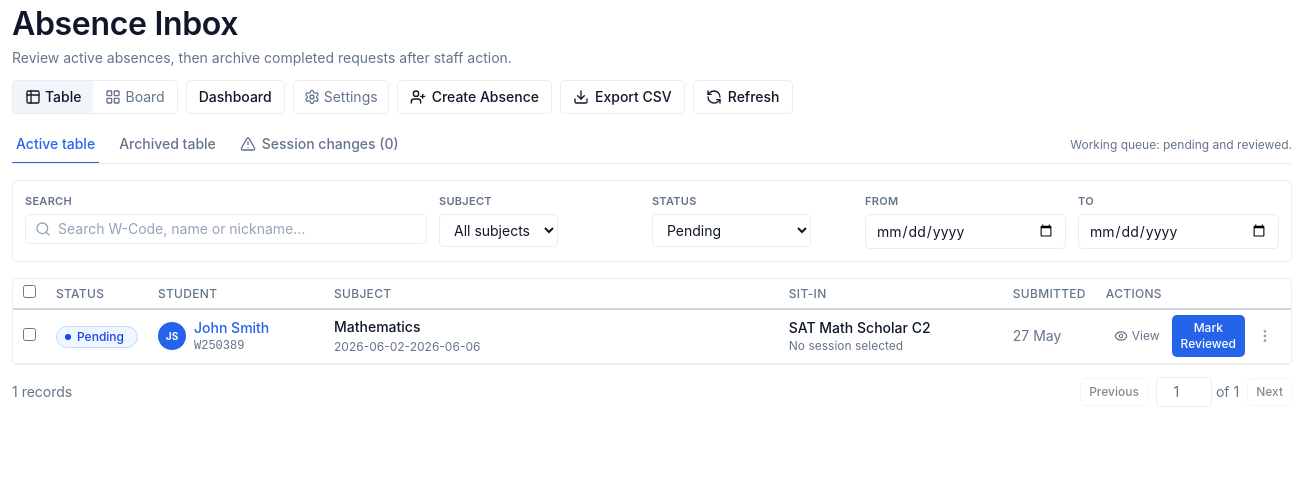
Test case: Absence inbox › flips selected rows to reviewed optimistically while the bulk request is in flight
Step 1. Click the checkbox named "Select W250389" → (30, 334), box [23,328,36,340]
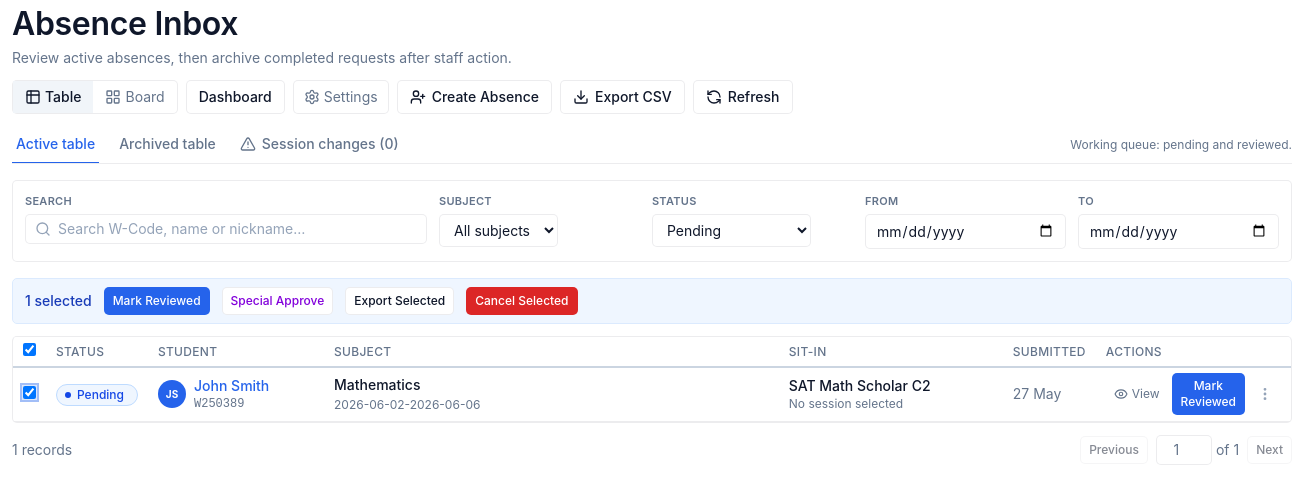
Step 2. Click the 1st button "Mark Reviewed" → (157, 300), box [104,286,210,314]
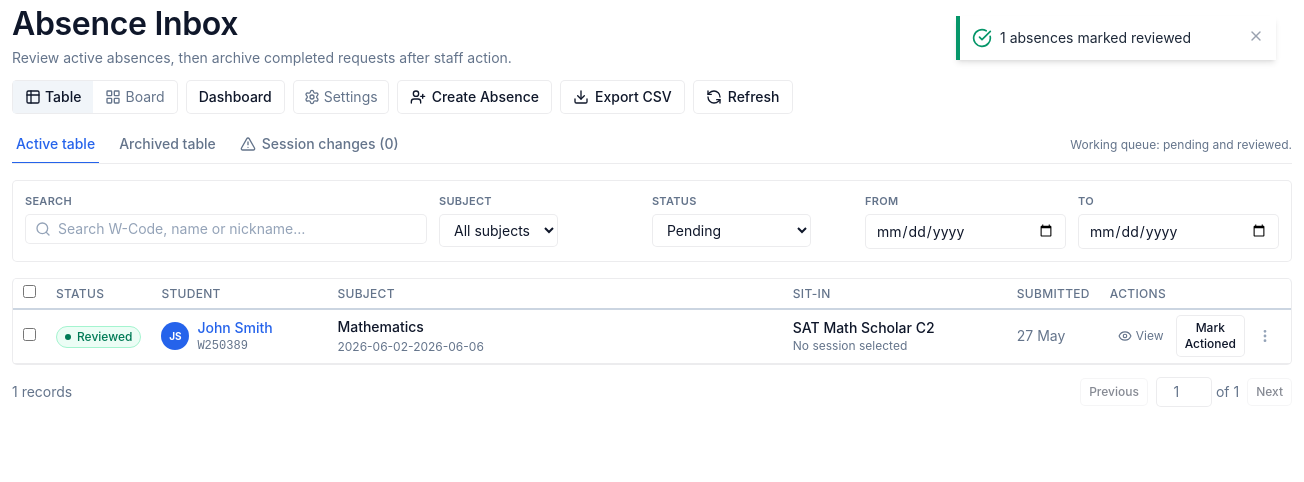
Expected: the cell "Reviewed" is shown, [46,308,151,363]
